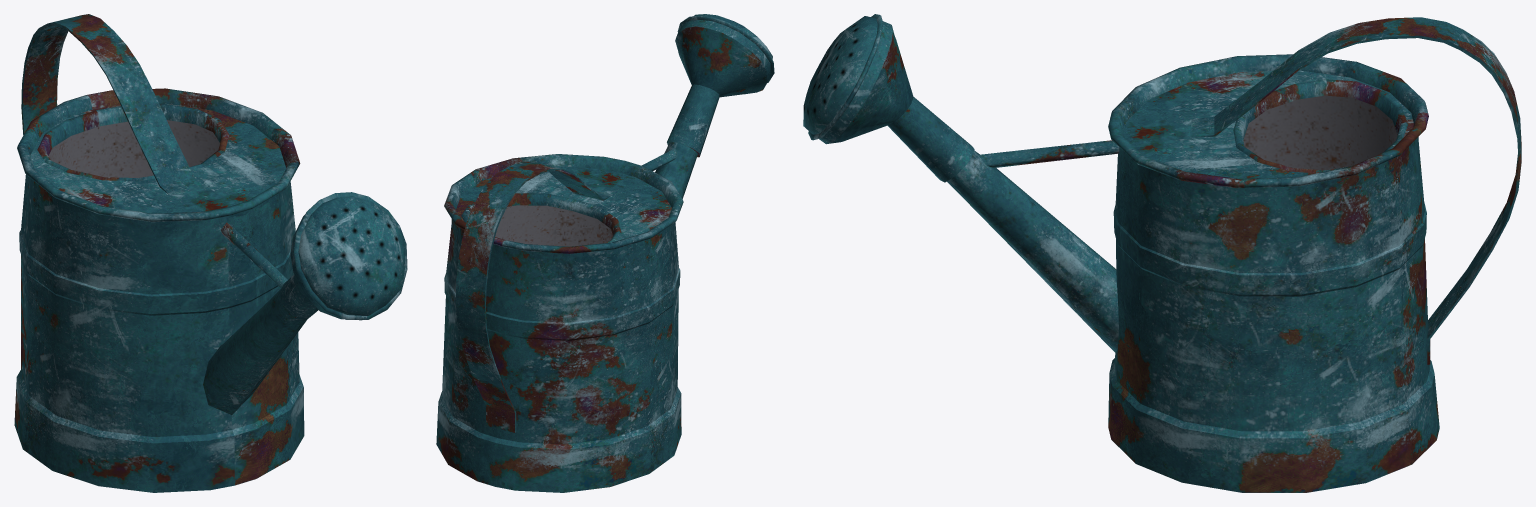
Rendered from can.glb.
3 views of the same model, side by side, from view 1: azimuth 30°, elevation 25°; view 2: azimuth 150°, elevation 25°; view 3: azimuth 270°, elevation 25° (orthographic). The views are drawn at different scales.
Visible parts, largest first — view 1: LP_WC_01_low, LP_WC_02_low; view 2: LP_WC_01_low, LP_WC_02_low; view 3: LP_WC_01_low, LP_WC_02_low.
Boxes of the visible parts, <box> form: LP_WC_01_low: <box>14,88,407,492</box>; LP_WC_02_low: <box>21,14,204,195</box>; LP_WC_01_low: <box>436,14,774,492</box>; LP_WC_02_low: <box>455,161,612,432</box>; LP_WC_01_low: <box>803,14,1439,492</box>; LP_WC_02_low: <box>1191,17,1521,364</box>.
Bounding box in the file's own units: 0.3332 × 0.4821 × 0.7737.
1 material, 1 textured.
